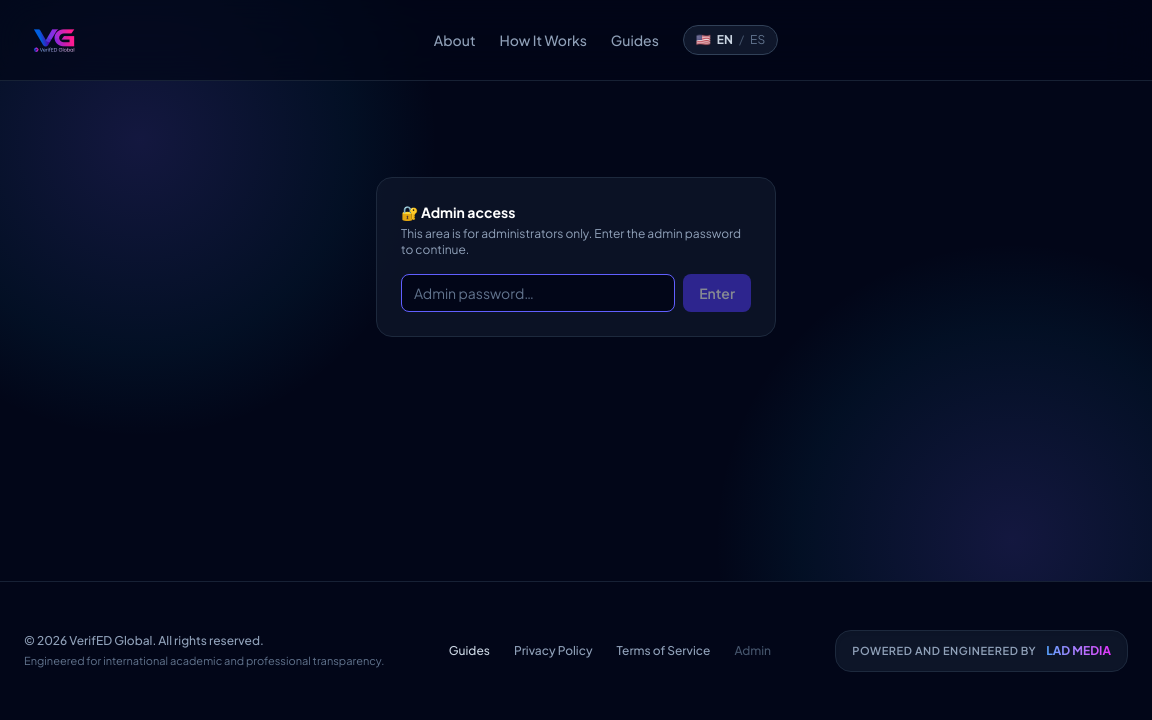
Test: App — StorageCorruptBanner on the admin route › clicking Cancel closes the dialog without touching storage or reloading
The image size is (1152, 720).
Step 1. Type "test-admin-key" into the password field with placeholder "Admin password…" → (538, 293), box x1=401 y1=274 x2=675 y2=312
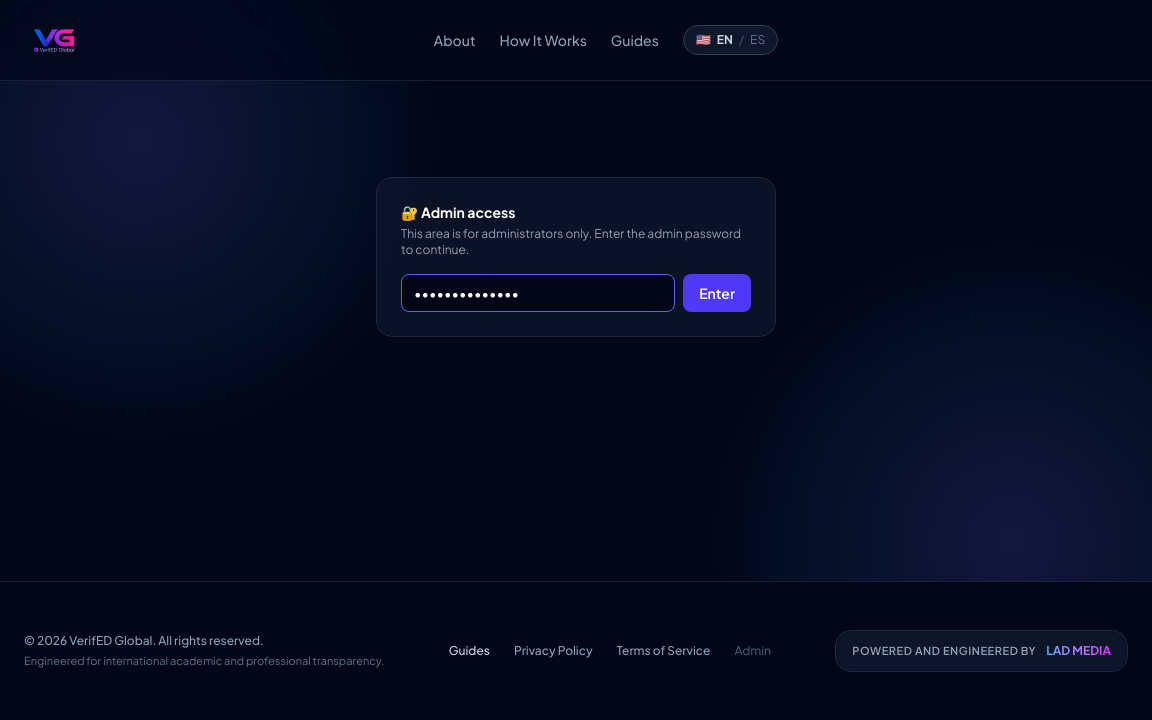
Step 2. Click the button "Enter" → (717, 293), box x1=683 y1=274 x2=751 y2=312
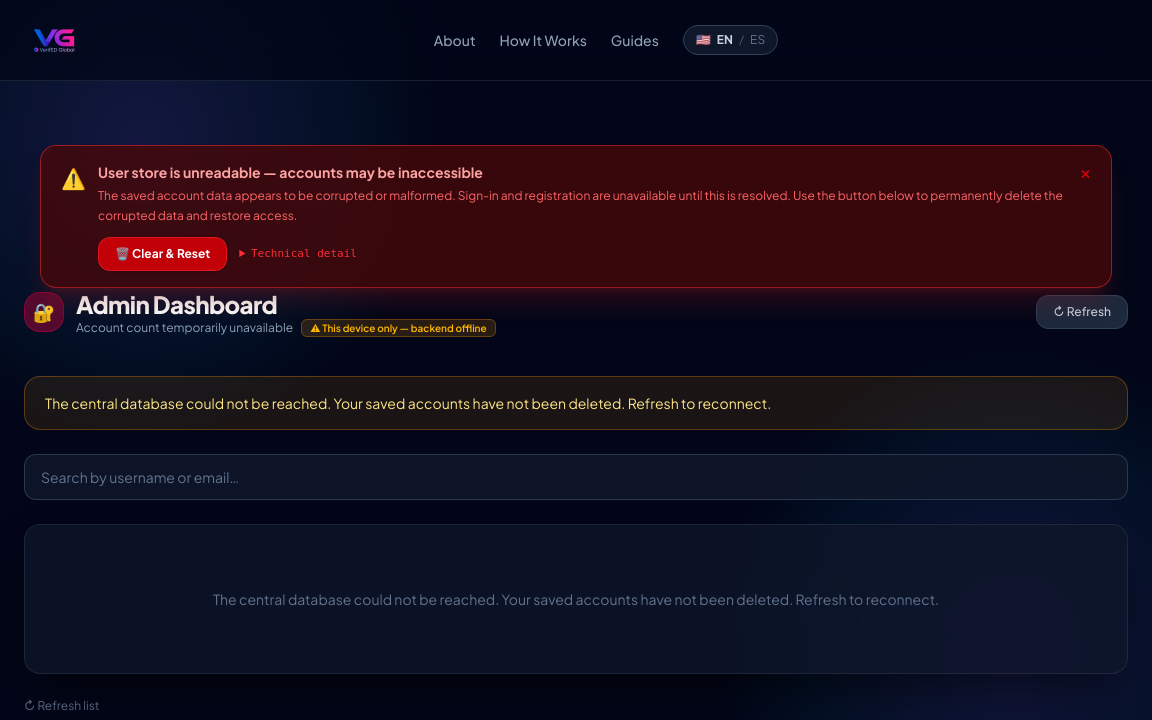
Expected: the text with placeholder "admin password" is gone
Expected: the button with test id "button-clear-corrupt-store" is shown
Step 3. Click the button with test id "button-clear-corrupt-store" → (163, 254), box x1=98 y1=237 x2=227 y2=271
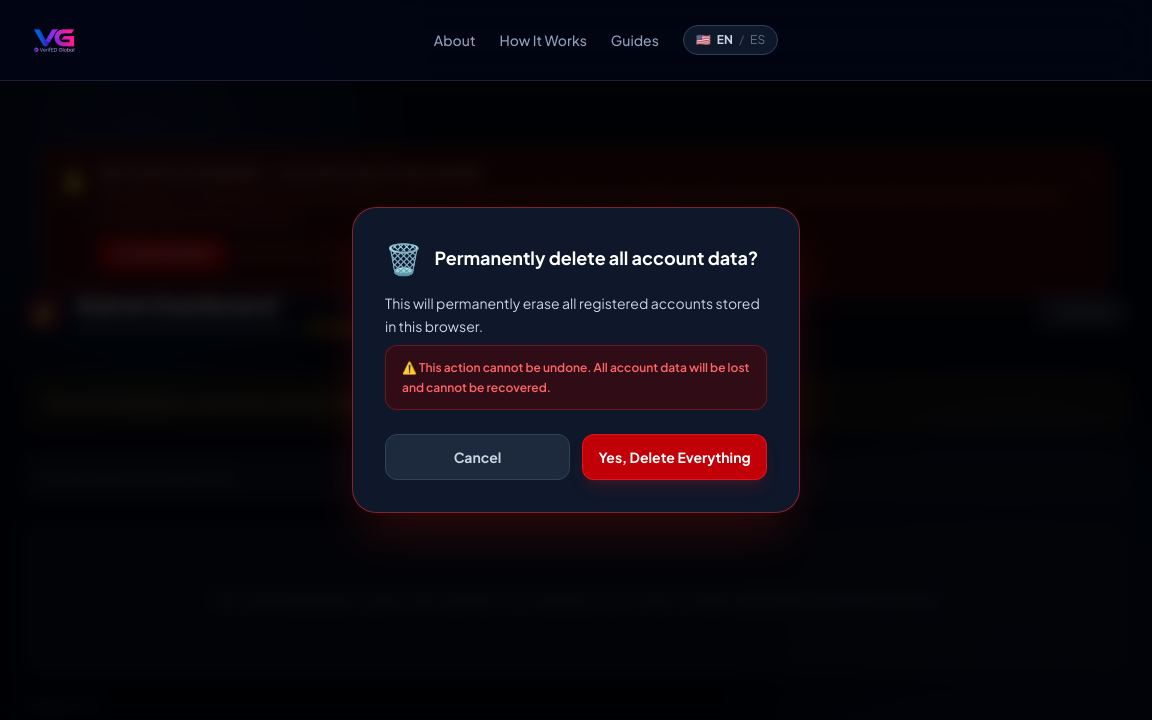
Expected: the element with test id "modal-confirm-clear-store" is shown
Step 4. Click the button with test id "button-cancel-clear-store" → (478, 457), box x1=385 y1=434 x2=570 y2=480
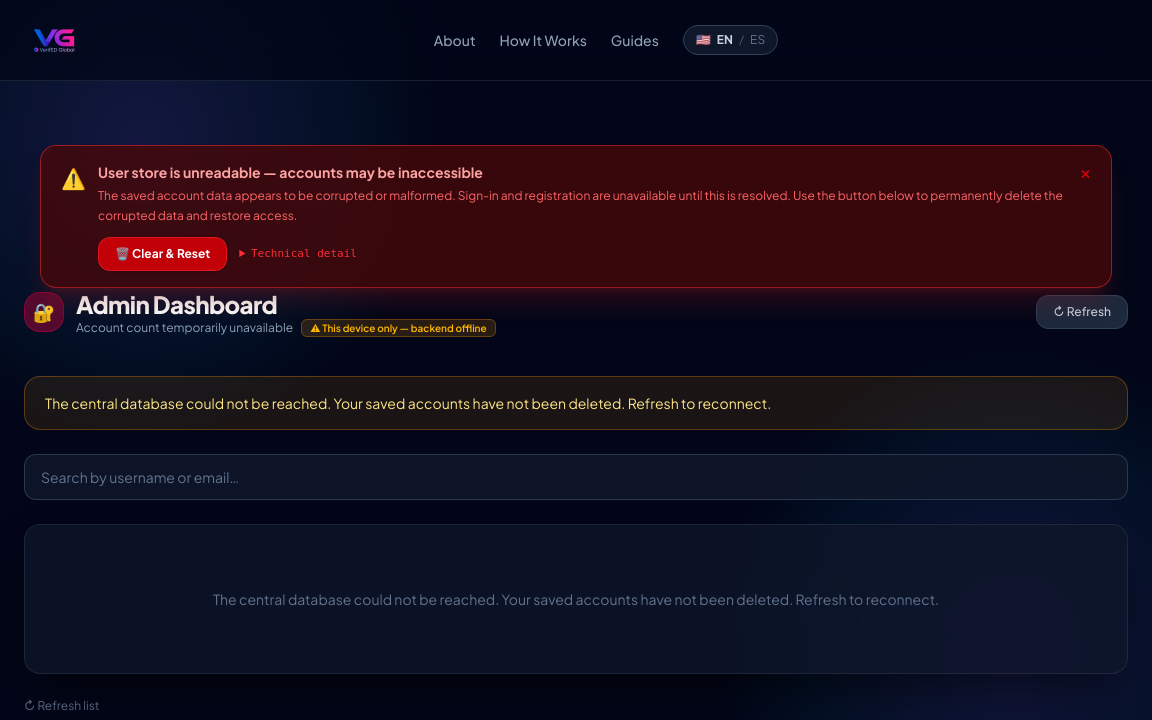
Expected: the element with test id "modal-confirm-clear-store" is gone
